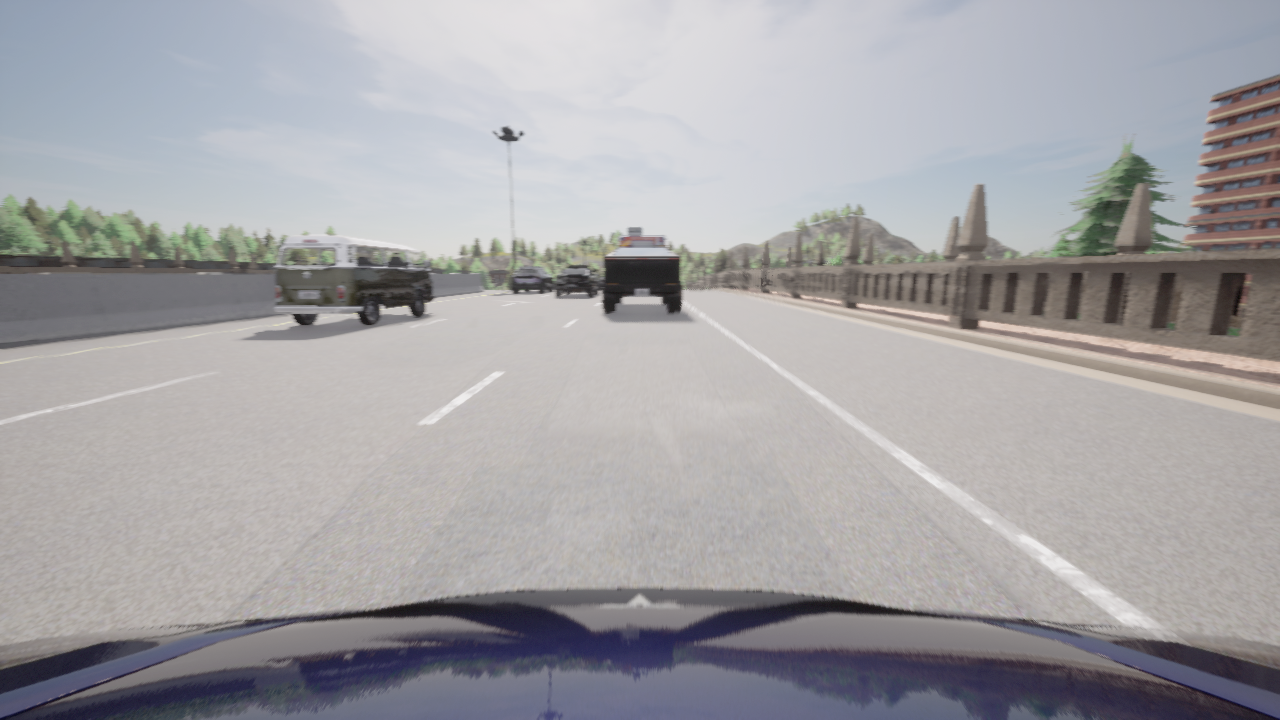cyclist: (0, 588, 1279, 719), (273, 234, 433, 325), (602, 247, 681, 312), (555, 265, 597, 296), (512, 267, 553, 292), (618, 227, 666, 247), (598, 277, 603, 289)
